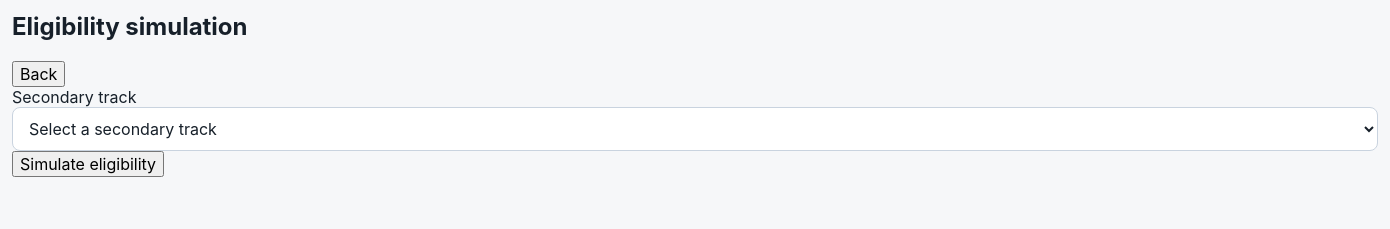
Test case: shows an error message when the simulation request fails
Select "Science and Technology" in the dropdown labelled "Secondary track" at (695, 129), box [12,107,1378,151]
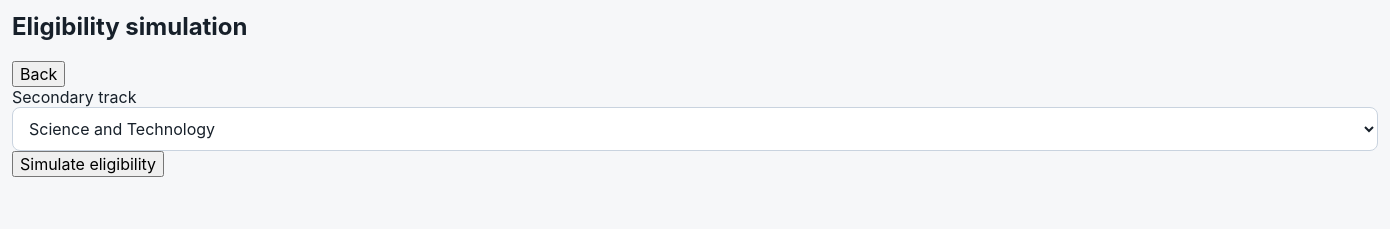
Click the button "Simulate eligibility".
click(88, 164)  # box [12,151,164,177]
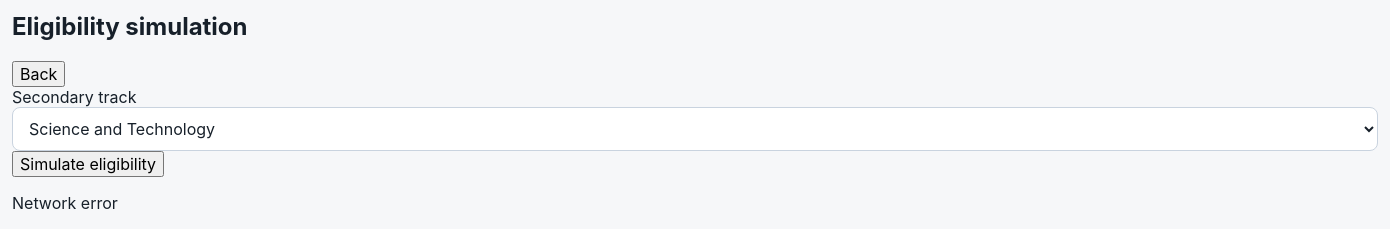
Check: the message reads "Network error", box [12,193,118,213]
